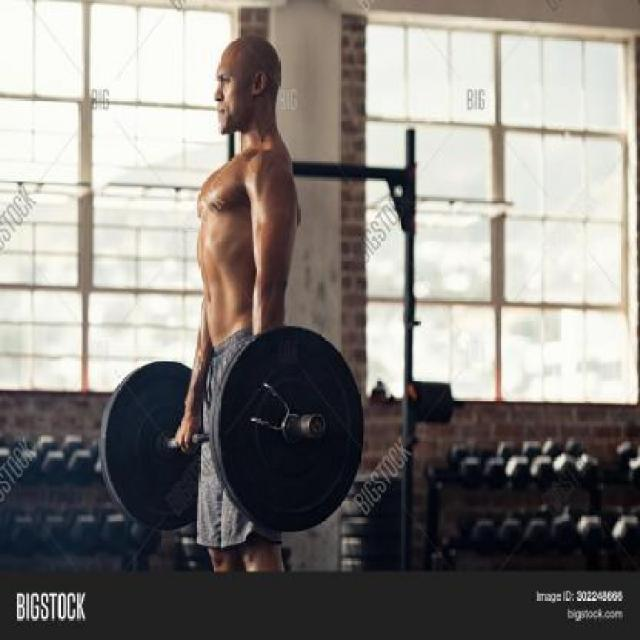Barbell: (299, 402, 338, 450)
